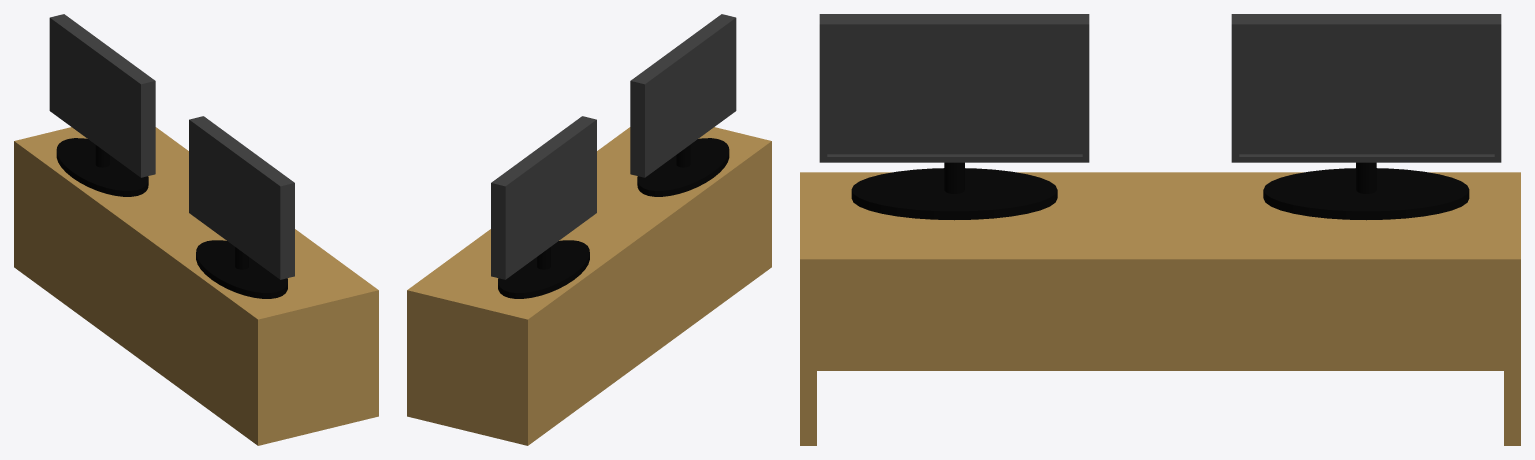
The model's file is desk.glb.
3 renders of one model, left to right at view 1: azimuth 30°, elevation 25°; view 2: azimuth 150°, elevation 25°; view 3: azimuth 270°, elevation 25°, orthographic. The views are drawn at different scales.
Visible parts, largest first — view 1: Desk, Computer2, Computer; view 2: Desk, Computer, Computer2; view 3: Desk, Computer, Computer2.
Part boxes in pixels (x1=…): Desk: x1=14, y1=127, x2=378, y2=445; Computer2: x1=49, y1=14, x2=155, y2=196; Computer: x1=189, y1=116, x2=294, y2=298; Desk: x1=407, y1=127, x2=771, y2=445; Computer: x1=630, y1=14, x2=736, y2=196; Computer2: x1=491, y1=116, x2=596, y2=298; Desk: x1=800, y1=172, x2=1520, y2=445; Computer: x1=819, y1=14, x2=1089, y2=220; Computer2: x1=1231, y1=14, x2=1501, y2=220.
Bounding box in the file's own units: 2 × 3.92 × 7.
